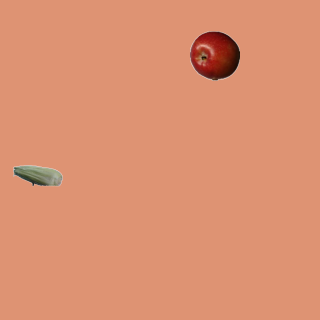Apple Braeburn: (189, 30, 239, 80)
Corn Husk: (12, 150, 62, 200)
